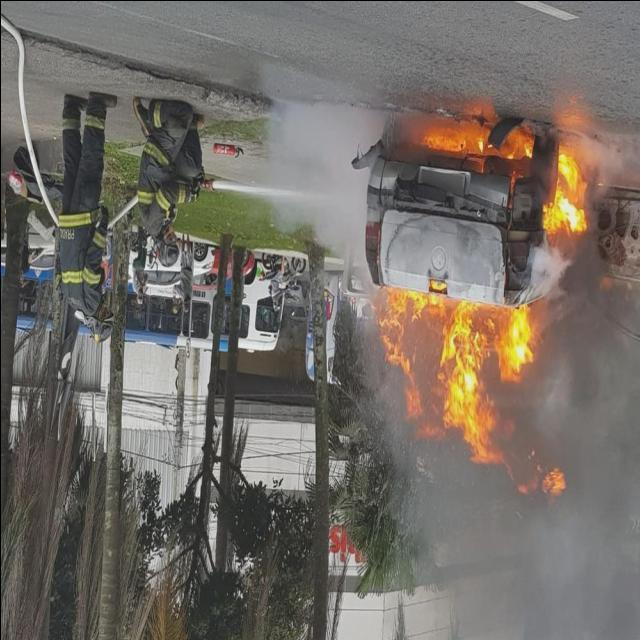Fire: (372, 277, 566, 504), (417, 121, 586, 242)
